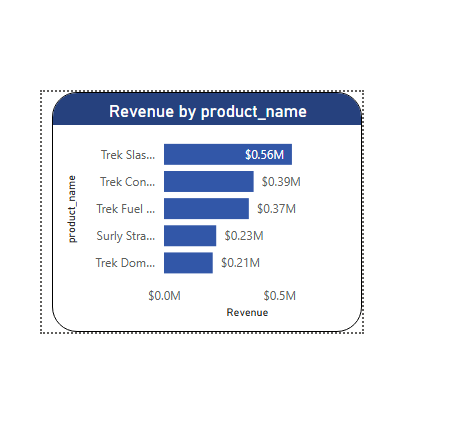

What the dashboard file says about the page in this screenshot:
{"tool":"powerbi","page":{"name":"Tooltip1","canvas":[320,240],"ordinal":4},"visuals":[{"type":"barChart","fields":{"Y":["Table.Revenue"],"Category":["products.product_name"]},"box":[10,0,310,240],"z":0}]}

Visuals, with their boxes on the page's 320x240 design canvas (x1, y1, x2, y2). These are canvas units, not pixel positions in the 469x430 screenshot, which may show the page scaled, cropped or inside an application window:
barChart - Table.Revenue x products.product_name: bbox=[10, 0, 320, 240]
